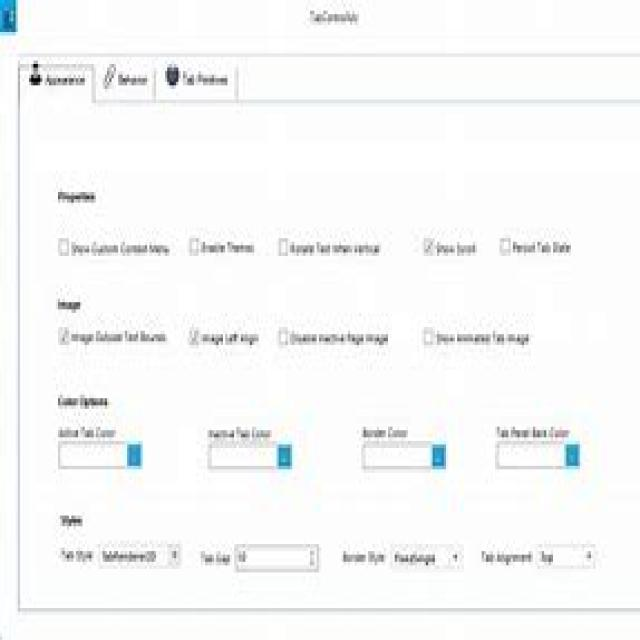checkbox: (187, 322, 200, 349), (422, 325, 434, 350), (276, 326, 289, 349), (187, 234, 199, 257), (276, 237, 289, 257), (422, 238, 436, 256), (58, 326, 70, 346), (499, 237, 511, 256), (57, 237, 69, 256)
dropdownMenu: (360, 439, 449, 474), (57, 439, 144, 472), (232, 542, 321, 574), (206, 440, 294, 472), (494, 439, 582, 470), (98, 538, 182, 570), (389, 542, 465, 572), (532, 540, 596, 570)
icon: (0, 0, 18, 34)
label: (290, 329, 391, 349), (304, 1, 367, 32), (436, 330, 532, 348), (290, 240, 382, 258), (71, 240, 171, 256), (70, 332, 169, 348), (55, 389, 117, 410), (493, 423, 572, 438), (480, 544, 531, 566), (511, 240, 573, 258), (340, 545, 388, 568), (54, 185, 100, 207), (200, 332, 260, 348), (200, 240, 255, 257), (206, 426, 274, 438), (58, 544, 94, 566), (54, 290, 86, 314), (359, 424, 412, 438), (57, 426, 117, 438), (198, 548, 230, 570), (437, 240, 477, 256), (58, 512, 88, 531)
tabControl: (14, 53, 243, 109)
